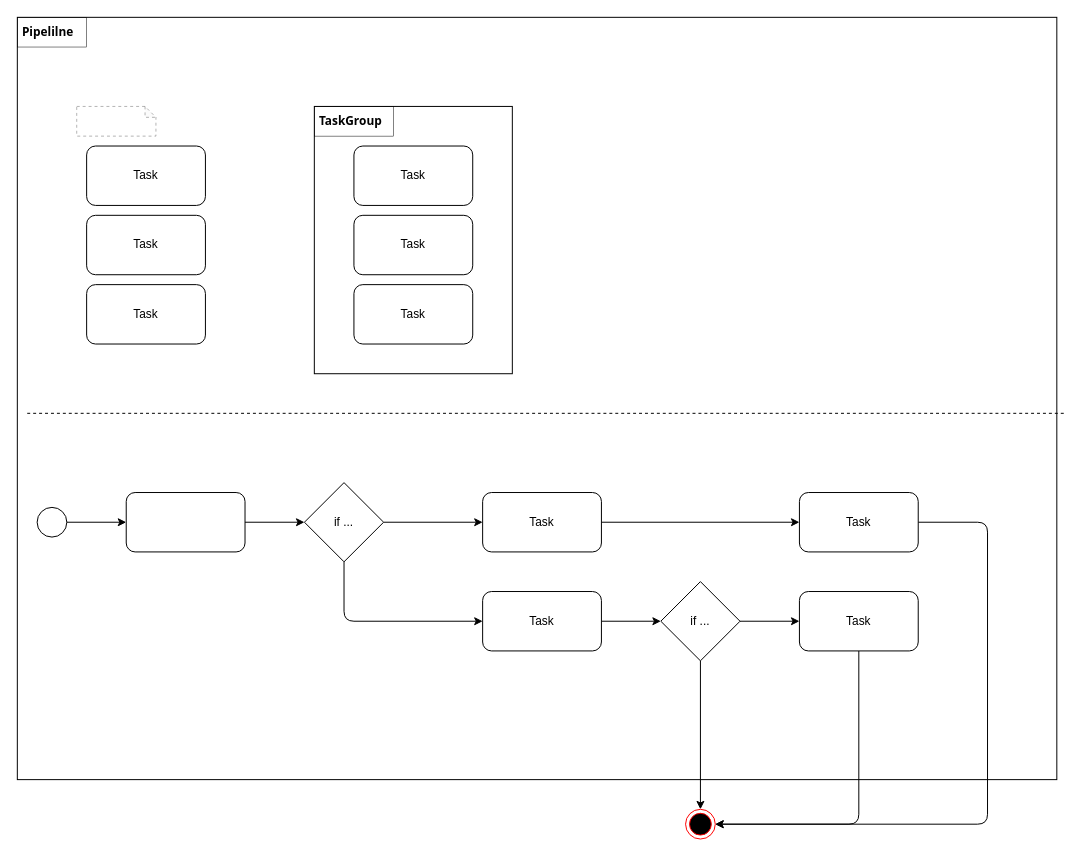
The diagram is 1085 pixels wide and 856 high, and some of its shapes have lost their labels. Here are the shapes that lost their labels. From the top down, the centre of each, then its label:
At [116,120]: "Single tasks".
At [185,522]: "Task (Root)".
